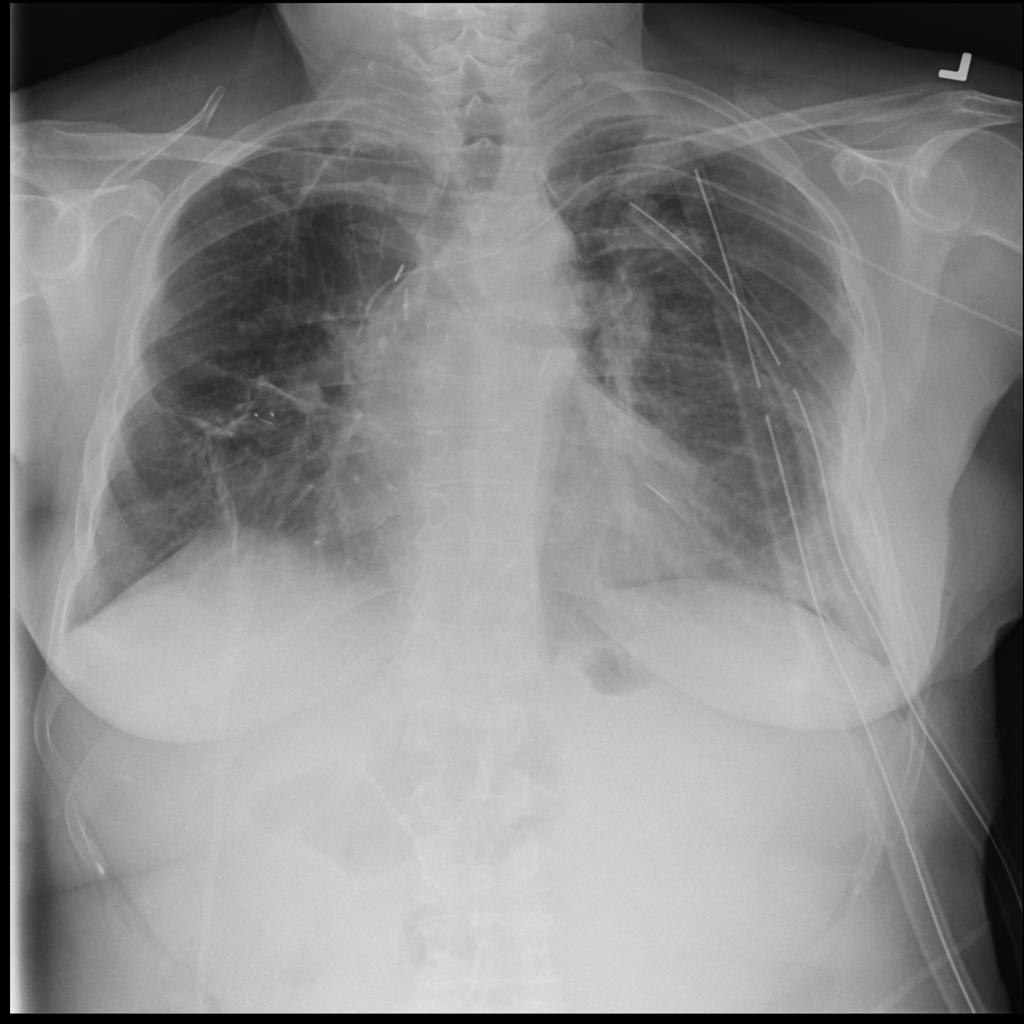nodule: (269, 359, 342, 428)
